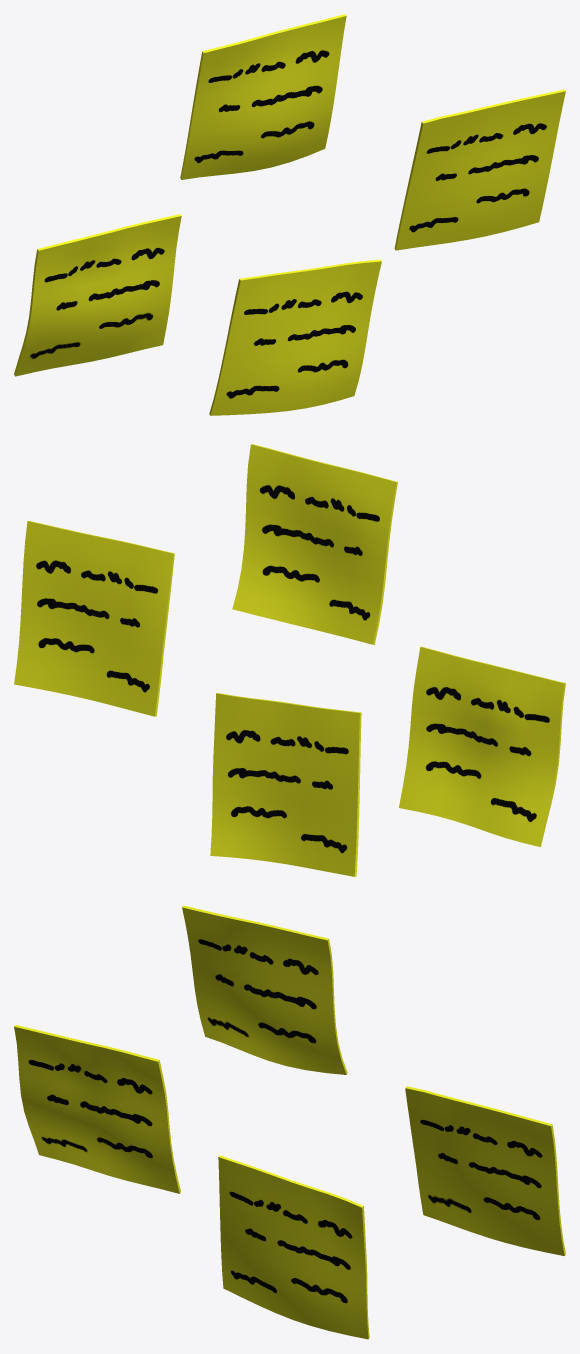
File: Stickers.fbx
3 views of the same model, one above another, from view 1: azimuth 30°, elevation 25°; view 2: azimuth 150°, elevation 25°; view 3: azimuth 330°, elevation 25° (orthographic).
Visible parts, largest first — view 1: Stickers; view 2: Stickers; view 3: Stickers.
Boxes of the visible parts, <box> form: Stickers: <box>14,14,565,415</box>; Stickers: <box>14,444,565,876</box>; Stickers: <box>14,905,565,1339</box>.
Size of the model in its own units: 7.39 by 0.6343 by 5.33.
Materials: 1 (1 with a texture image).
